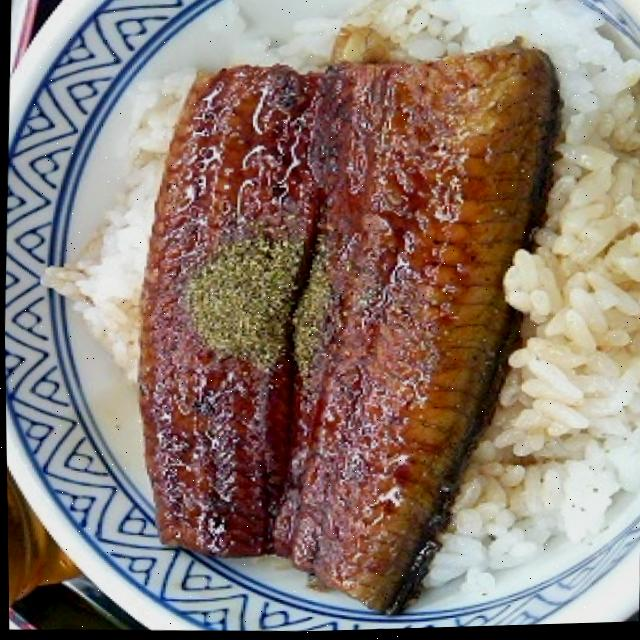熟制海鲜: (3, 0, 639, 640)
